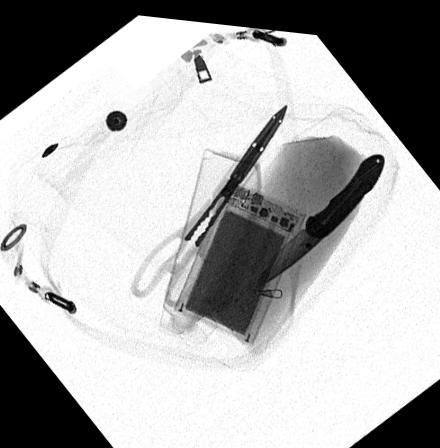Knife: (253, 145, 384, 285)
Powerbank: (171, 173, 302, 341)
Scissors: (128, 94, 287, 312)
